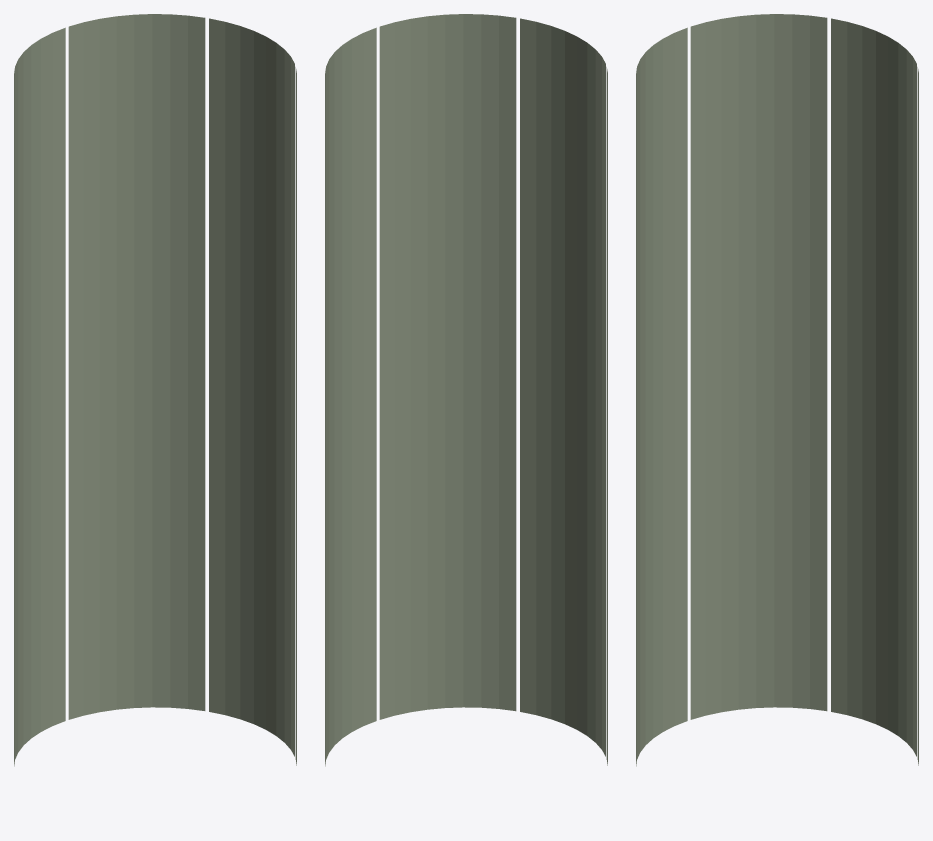
File: glass.glb
3 renders of one model, left to right at view 1: azimuth 30°, elevation 25°; view 2: azimuth 150°, elevation 25°; view 3: azimuth 270°, elevation 25°, orthographic.
Parts seen in each view (by area): view 1: GoToWestGlass; view 2: GoToWestGlass; view 3: GoToWestGlass.
Boxes of the visible parts, x1,y1,x2,y2 form: GoToWestGlass: [14, 14, 296, 766]; GoToWestGlass: [325, 14, 607, 766]; GoToWestGlass: [636, 14, 918, 766].
Bounding box in the file's own units: 0.6218 × 1.68 × 0.622.
